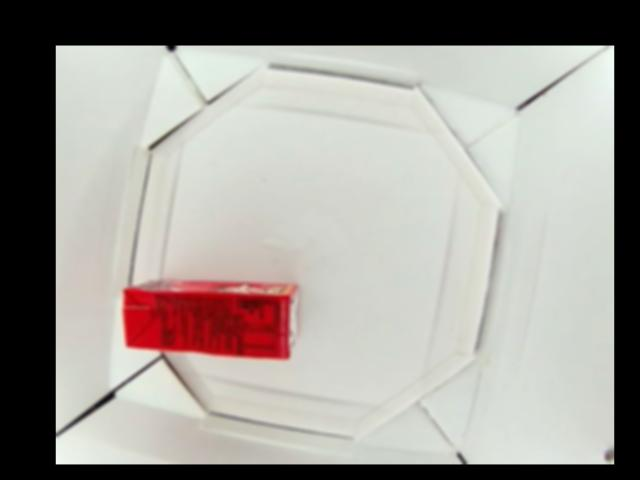Bottle: (120, 268, 300, 360)
